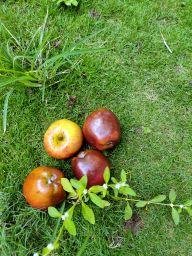apple: (16, 159, 73, 219), (78, 99, 128, 153), (39, 111, 89, 164), (67, 141, 119, 189)
